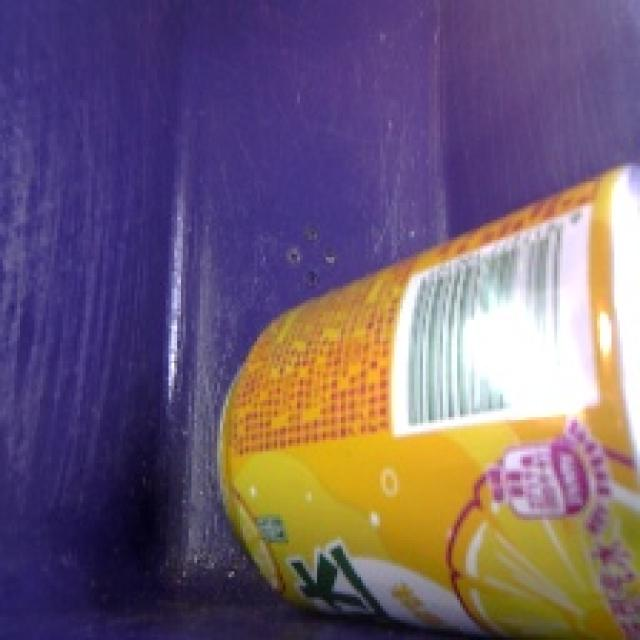metal: (211, 143, 640, 640)
